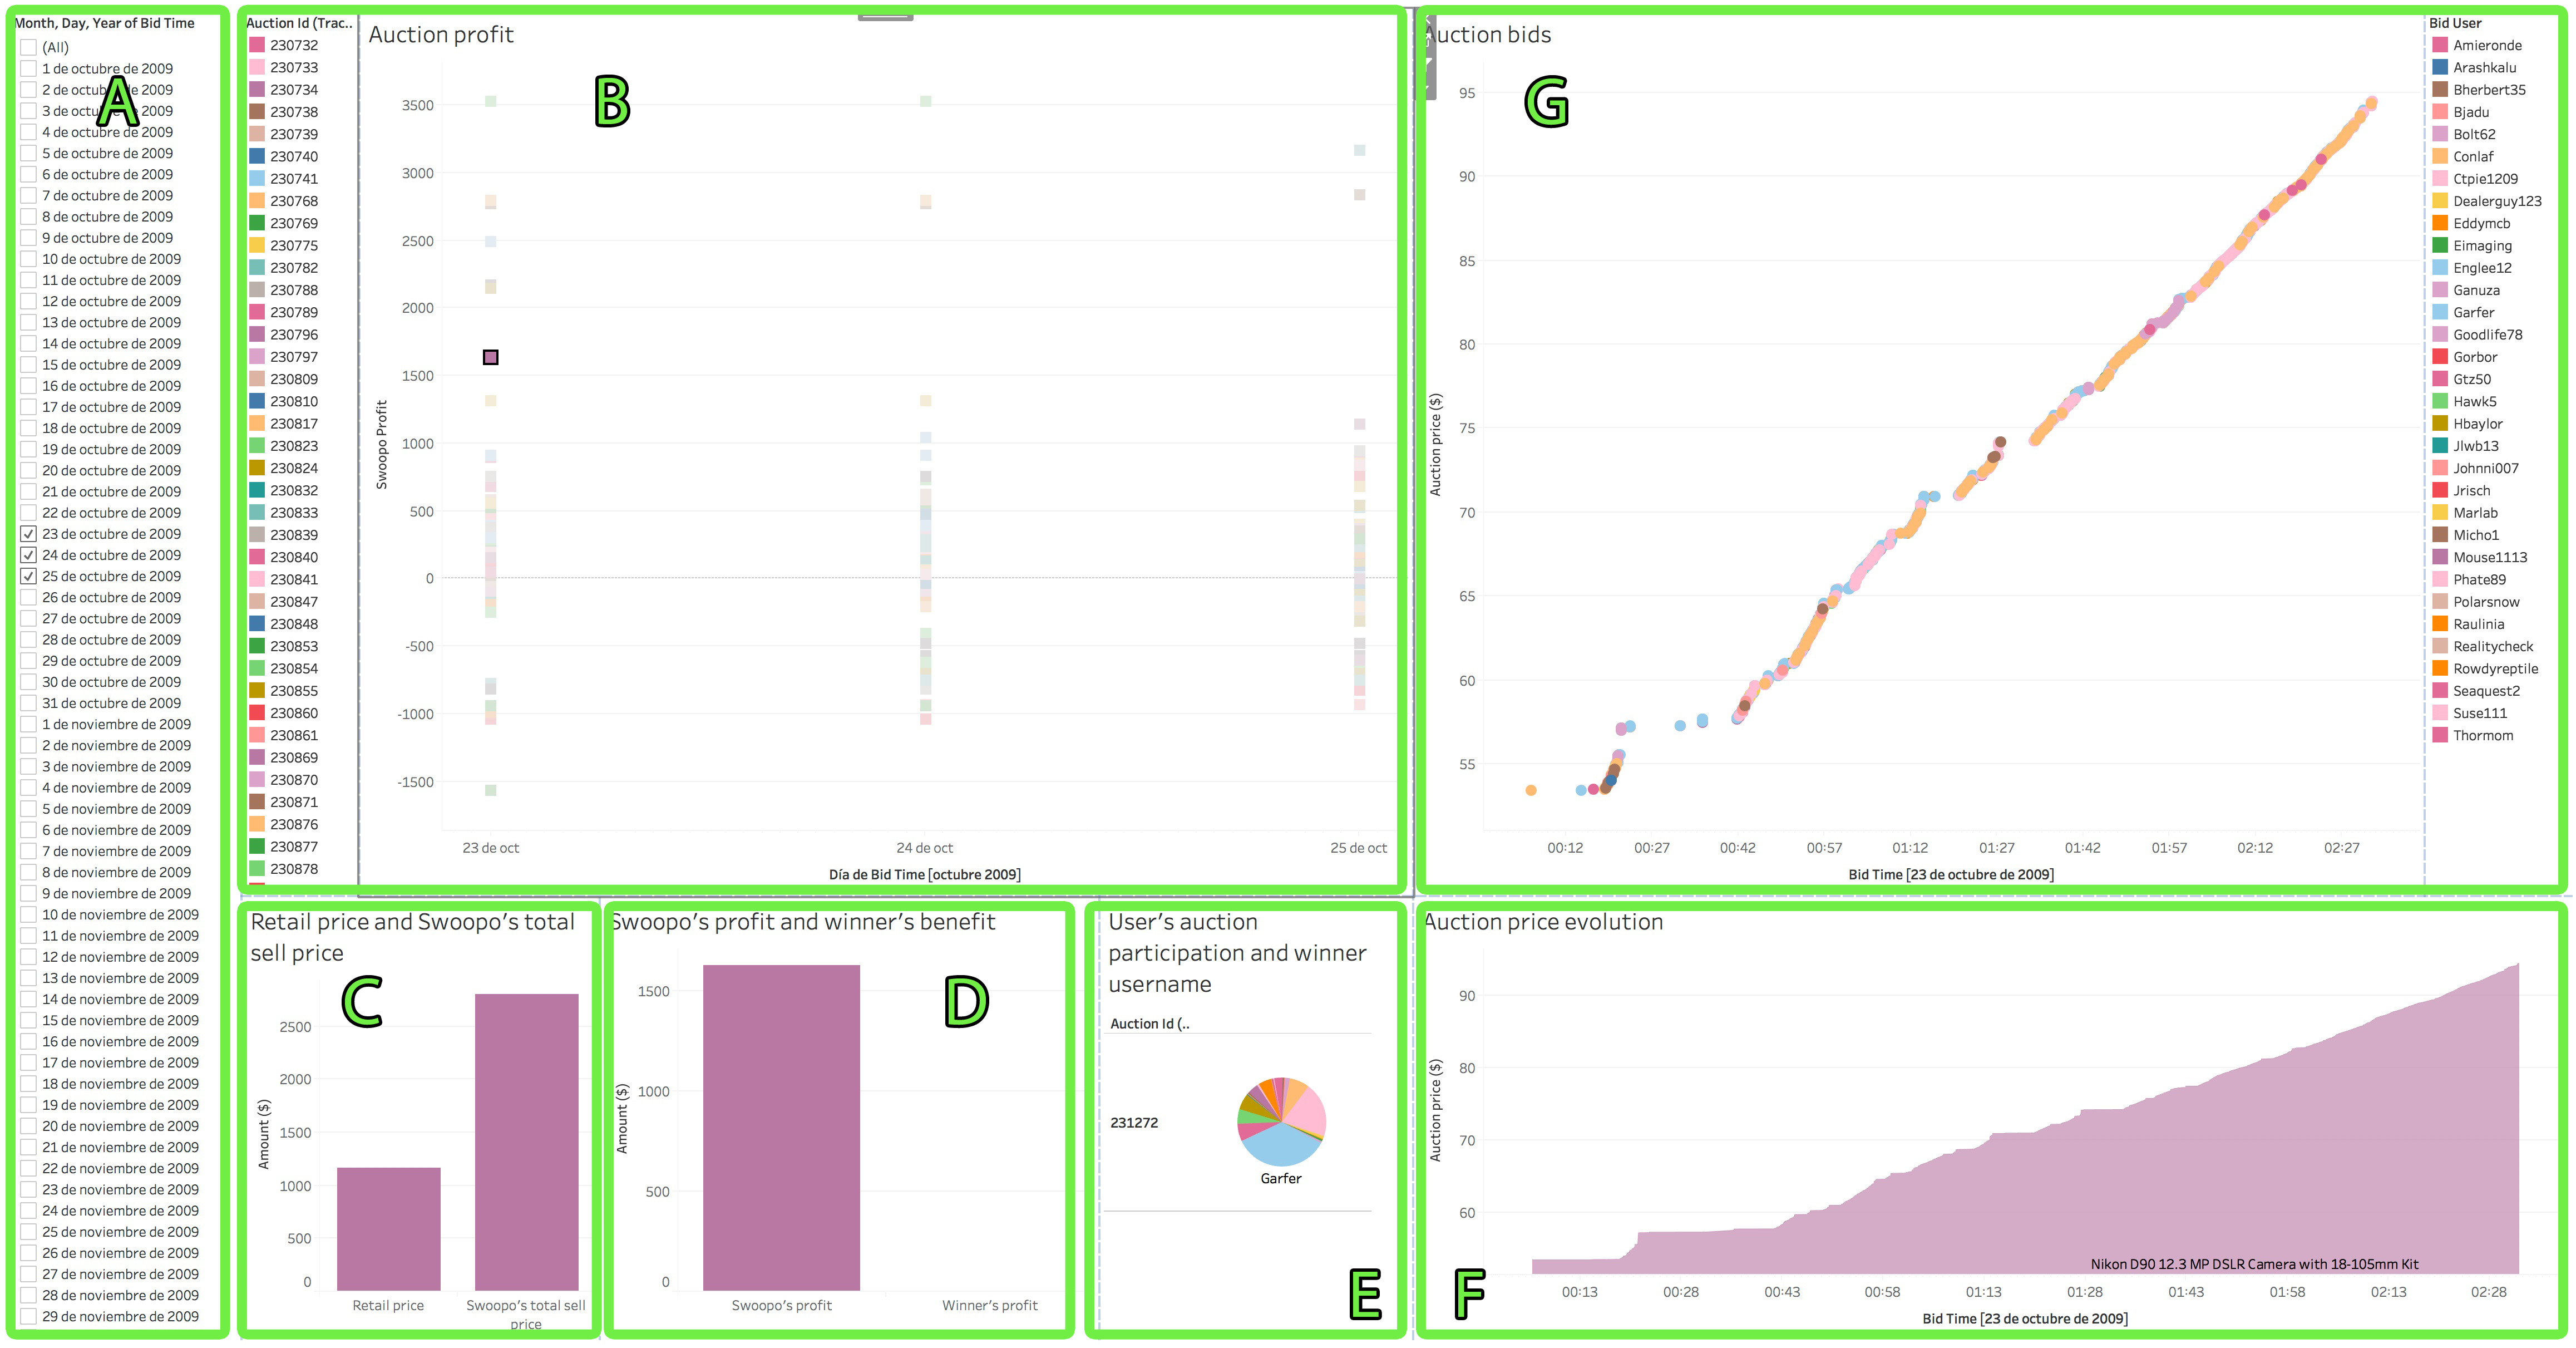

Layout of this report page (visuals, bound fields, positions):
{"tool":"tableau","page":{"name":"Dashboard","canvas":[1000,1000],"units":"permille","ordinal":0},"visuals":[{"type":"filter","title":"Auction profit","param":"[federated.0qq0jvo1fasi1912zp8rx17w9vlu].[md:bid_time:ok]","box":[3.5,6.6,90.1,986.8]},{"type":"legend","title":"Auction profit","param":"[federated.0qq0jvo1fasi1912zp8rx17w9vlu].[none:auction_id (traces_clean.tsv):ok]","box":[93.5,6.6,45.7,657.9]},{"type":"worksheet","title":"Auction profit","mark":"Square","rows":["swoopo_profit"],"cols":["bid_time"],"box":[139.2,6.6,408,657.9]},{"type":"worksheet","title":"Auction bids","mark":"Circle","rows":["bid_cp"],"cols":["bid_time"],"box":[547.3,6.6,392,657.9]},{"type":"legend","title":"User's auction participation and winner username","param":"[federated.0qq0jvo1fasi1912zp8rx17w9vlu].[none:bid_user:nk]","box":[939.2,6.6,57.3,657.9]},{"type":"worksheet","title":"Retail price and Swoopo's total sell price","mark":"Bar","box":[93.5,664.5,138.6,328.9]},{"type":"worksheet","title":"Swoopo's profit and winner's benefit","mark":"Bar","box":[232.1,664.5,193.7,328.9]},{"type":"worksheet","title":"User's auction participation and winner username","mark":"Pie","rows":["auction_id (traces_clean.tsv)"],"box":[425.9,664.5,121.5,328.9]},{"type":"worksheet","title":"Auction price evolution","mark":"Area","rows":["bid_cp"],"cols":["bid_time"],"box":[547.4,664.5,449.1,328.9]}]}

Visuals, with their boxes on the dashboard's canvas, which has no fixed pixel size, in thousandths of its width and height (x1, y1, x2, y2). These are canvas units, not pixel positions in the 2576x1348 screenshot, which may show the page scaled, cropped or inside an application window:
"Auction profit" filter: (left=4, top=7, right=94, bottom=993)
"Auction profit" legend: (left=94, top=7, right=139, bottom=664)
"Auction profit" worksheet (Square marks): (left=139, top=7, right=547, bottom=664)
"Auction bids" worksheet (Circle marks): (left=547, top=7, right=939, bottom=664)
"User's auction participation and winner username" legend: (left=939, top=7, right=996, bottom=664)
"Retail price and Swoopo's total sell price" worksheet (Bar marks): (left=94, top=664, right=232, bottom=993)
"Swoopo's profit and winner's benefit" worksheet (Bar marks): (left=232, top=664, right=426, bottom=993)
"User's auction participation and winner username" worksheet (Pie marks): (left=426, top=664, right=547, bottom=993)
"Auction price evolution" worksheet (Area marks): (left=547, top=664, right=996, bottom=993)
